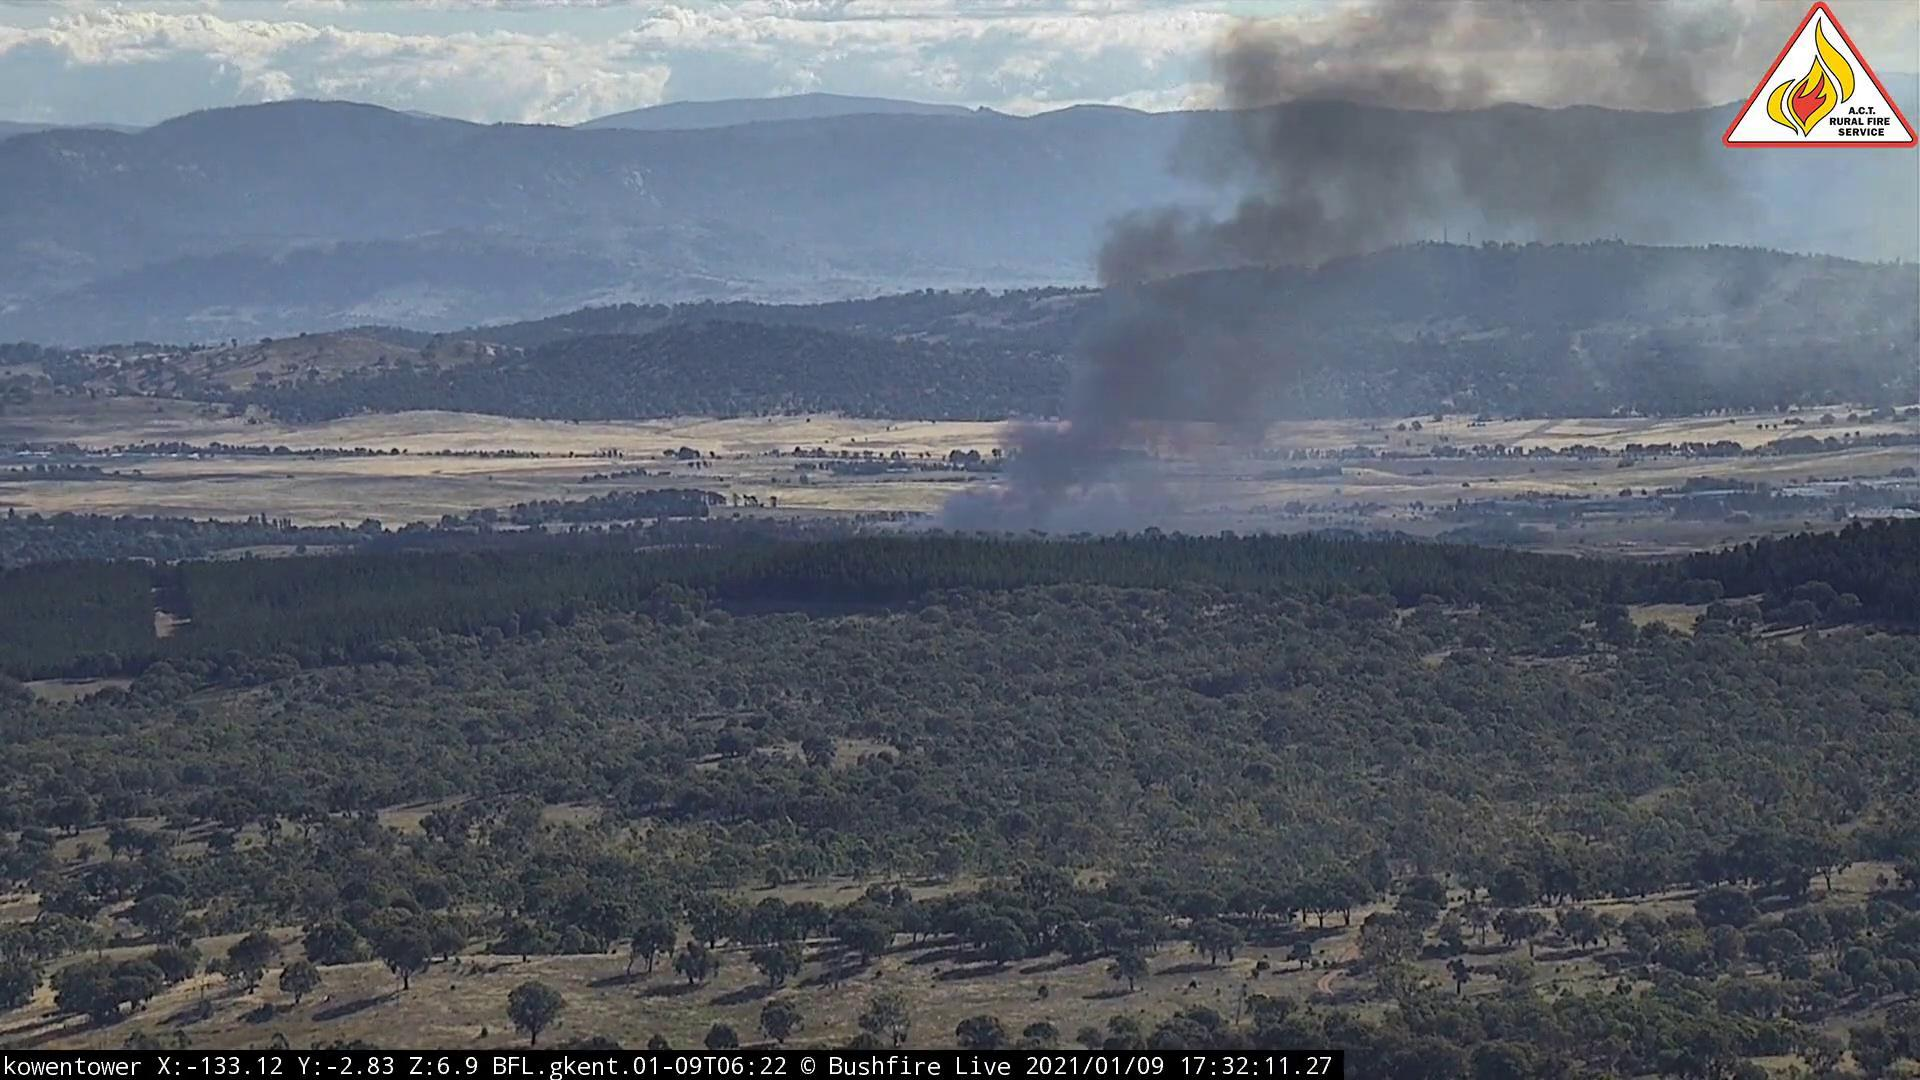instance_salient_object: (913, 3, 1720, 549)
